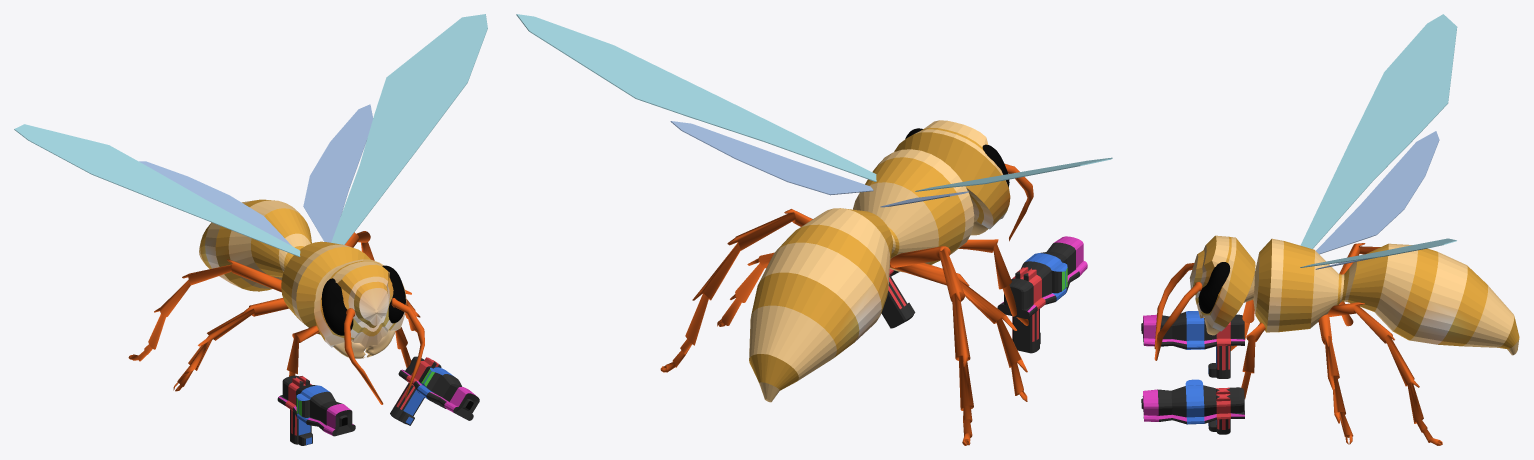
3 renders of one model, left to right at view 1: azimuth 30°, elevation 25°; view 2: azimuth 150°, elevation 25°; view 3: azimuth 270°, elevation 25°, orthographic. The views are drawn at different scales.
Parts seen in each view (by area): view 1: hane1, bace.001, hane2, Cube, Cube.001, asi3, me, asi2, syokkaku, asi1, bace.002; view 2: bace.001, hane1, asi3, Cube, hane2, asi2, asi1, Cube.001; view 3: bace.001, hane1, hane2, Cube.001, Cube, asi3, asi2, syokkaku, asi1, me.
Boxes of the visible parts, x1,y1,x2,y2 form: hane1: [14, 14, 487, 256]; bace.001: [199, 199, 406, 347]; hane2: [139, 104, 373, 245]; Cube: [277, 375, 355, 445]; Cube.001: [390, 356, 479, 425]; asi3: [128, 231, 374, 361]; me: [321, 265, 405, 335]; asi2: [173, 290, 420, 391]; syokkaku: [344, 298, 424, 404]; asi1: [286, 325, 411, 376]; bace.002: [333, 330, 395, 358]; bace.001: [749, 120, 1010, 402]; hane1: [516, 14, 1112, 191]; asi3: [660, 209, 973, 445]; Cube: [997, 236, 1087, 353]; hane2: [670, 121, 968, 207]; asi2: [717, 252, 1027, 401]; asi1: [958, 239, 1028, 325]; Cube.001: [881, 269, 915, 328]; bace.001: [1189, 235, 1519, 355]; hane1: [1300, 14, 1457, 267]; hane2: [1315, 131, 1439, 269]; Cube.001: [1141, 379, 1244, 434]; Cube: [1141, 311, 1244, 378]; asi3: [1327, 243, 1442, 445]; asi2: [1318, 301, 1353, 444]; syokkaku: [1154, 263, 1202, 360]; asi1: [1230, 299, 1265, 398]; me: [1198, 262, 1230, 313].
Bounding box in the file's own units: 2188 × 1252 × 1516.
